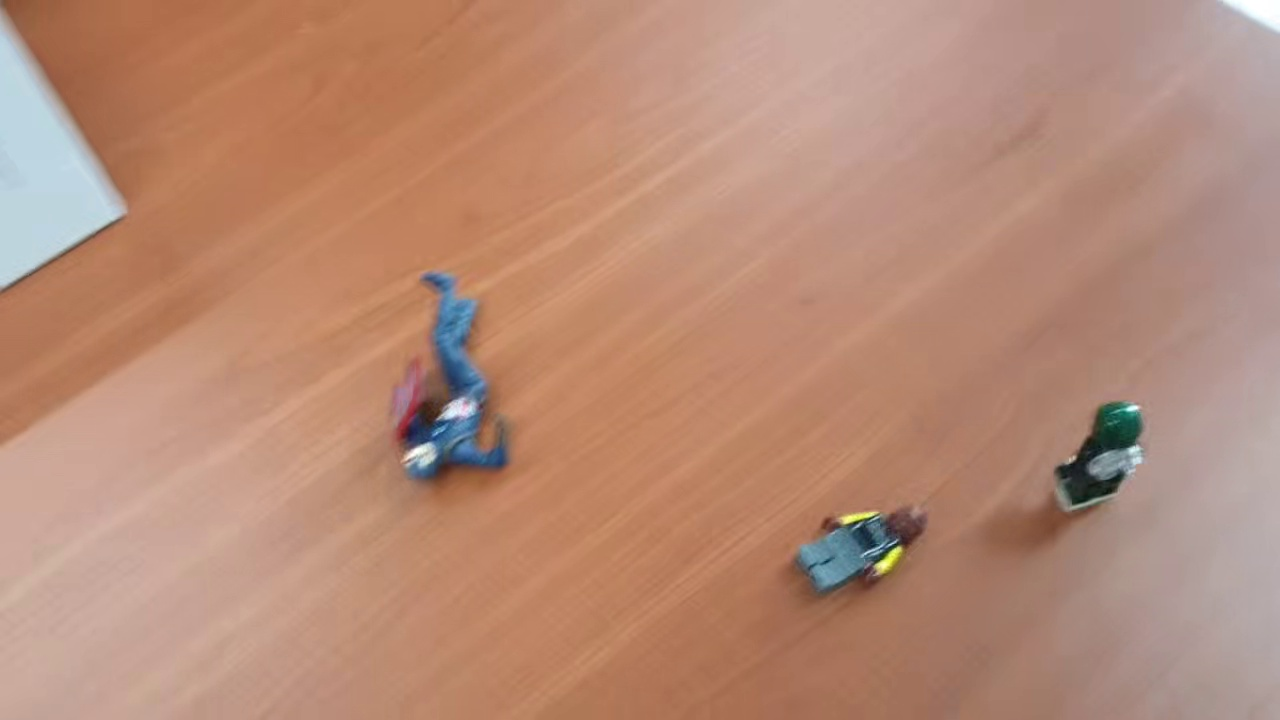people: (385, 265, 507, 485), (788, 502, 928, 594), (1055, 402, 1144, 517)
